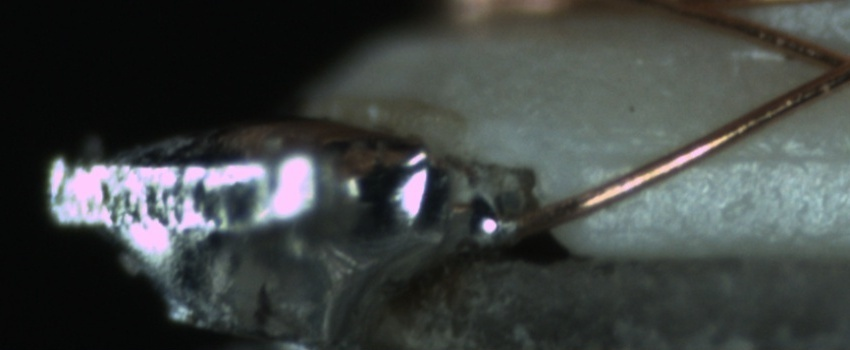CL: (802, 34, 850, 94)
DL: (570, 124, 848, 187)
